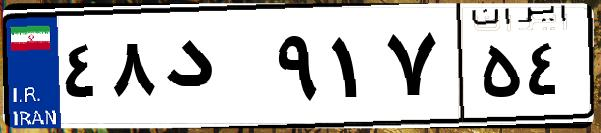1: (330, 28, 385, 110)
4: (57, 26, 110, 100), (525, 38, 570, 115)
5: (475, 38, 525, 113)
7: (385, 28, 445, 110)
8: (110, 28, 158, 98)
9: (270, 28, 330, 110)
د: (158, 20, 270, 120)
